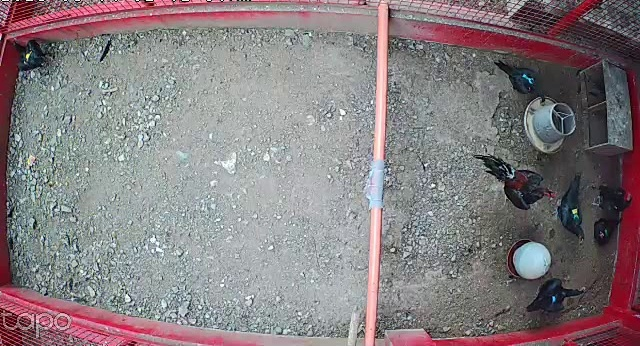Chicken: (520, 272, 591, 322), (551, 170, 587, 248), (492, 55, 548, 104), (589, 177, 637, 213), (12, 36, 54, 71), (591, 216, 622, 246)
Rooster: (472, 148, 552, 214)
Saddle_Color_Blue: (551, 294, 557, 304)
Saddle_Color_Bluegreen: (522, 73, 534, 84)
Saddle_Color_Green: (604, 229, 608, 236)
Saddle_Color_Yellow: (24, 49, 33, 61)
Saddle_Color_YellowGreen: (572, 207, 579, 219)
